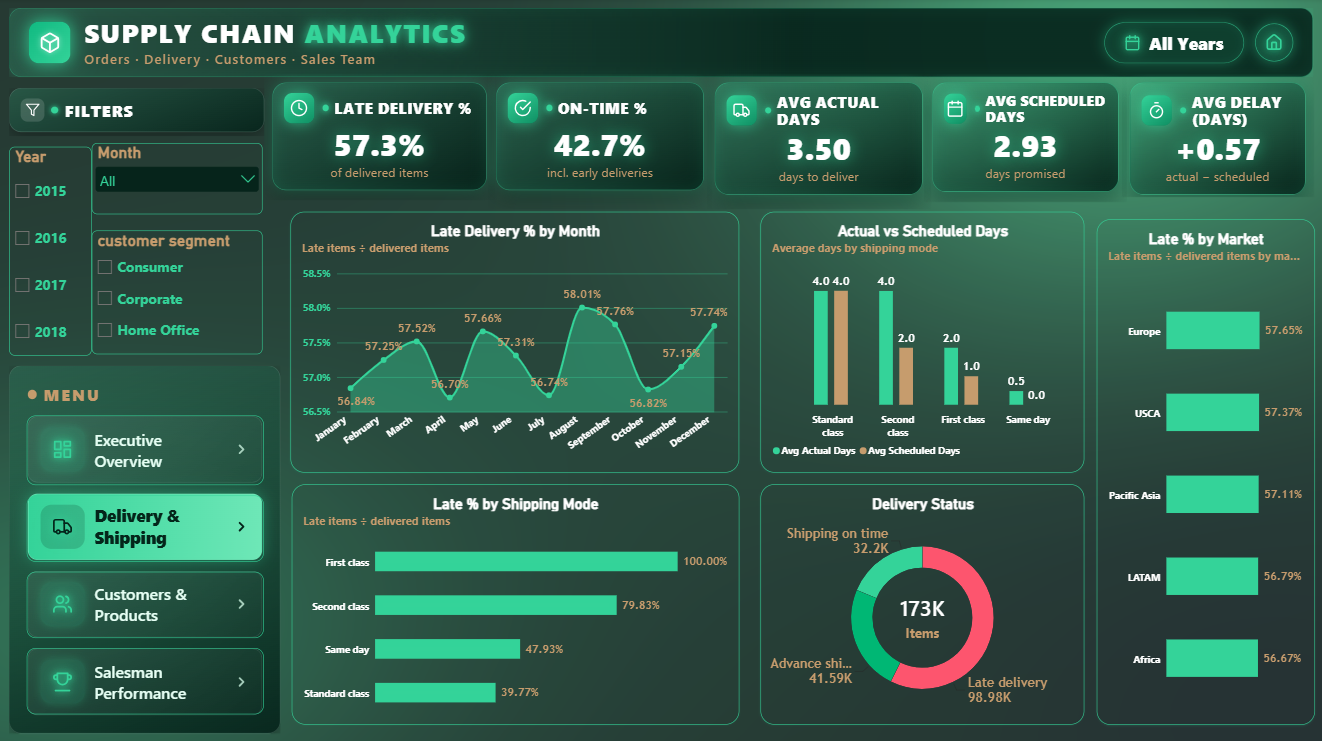

The dashboard page shown, as its layout file describes it:
{"tool":"powerbi","page":{"name":"Delivery & Shipping Performance","canvas":[1920,1080],"ordinal":2},"visuals":[{"type":"htmlContent443BE3AD55E043BF878BED274D3A6855","fields":{"content":["Base HTML.HTML Header"]},"box":[0,0,1920,129.7],"z":0},{"type":"htmlContent443BE3AD55E043BF878BED274D3A6855","fields":{"content":["Base HTML.HTML Menu P2"]},"box":[0,517.6,424.7,562.4],"z":1000},{"type":"htmlContent443BE3AD55E043BF878BED274D3A6855","fields":{"content":["Base HTML.HTML Filter Header"]},"box":[0,115,401.5,99.4],"z":2000},{"type":"htmlContent443BE3AD55E043BF878BED274D3A6855","fields":{"content":["HTML DASHBOARD 2.Card Late Pct"]},"box":[368.4,95,366.5,212.5],"z":3000},{"type":"htmlContent443BE3AD55E043BF878BED274D3A6855","fields":{"content":["HTML DASHBOARD 2.Card On Time Pct"]},"box":[693.6,95,357.2,225.2],"z":4000},{"type":"htmlContent443BE3AD55E043BF878BED274D3A6855","fields":{"content":["HTML DASHBOARD 2.Card Avg Actual"]},"box":[1009.5,95,357.2,225.2],"z":5000},{"type":"htmlContent443BE3AD55E043BF878BED274D3A6855","fields":{"content":["HTML DASHBOARD 2.Card Avg Scheduled"]},"box":[1325.4,95,325.5,214.4],"z":6000},{"type":"htmlContent443BE3AD55E043BF878BED274D3A6855","fields":{"content":["HTML DASHBOARD 2.Card Avg Delay"]},"box":[1609.7,95,310.3,207.5],"z":7000},{"type":"lineChart","title":"Late Delivery % by Month","fields":{"Category":["Gold DimDate.Month_Name"],"Y":["CALC Delivery & Shipping Performance.Late Delivery %"]},"box":[423.4,308.9,649.9,377.6],"z":8000},{"type":"clusteredColumnChart","title":"Actual vs Scheduled Days","fields":{"Category":["Gold FactOrders.Shipping_Mode"],"Y":["CALC Delivery & Shipping Performance.Avg Actual Days","CALC Delivery & Shipping Performance.Avg Scheduled Days"]},"box":[1103,308.9,469.1,377.6],"z":9000},{"type":"clusteredBarChart","title":"Late % by Shipping Mode","fields":{"Category":["Gold FactOrders.Shipping_Mode"],"Y":["CALC Delivery & Shipping Performance.Late Delivery %"]},"box":[425.6,704.8,647.6,347.8],"z":10000},{"type":"clusteredBarChart","title":"Late % by Market","fields":{"Category":["Gold FactOrders.Market"],"Y":["CALC Delivery & Shipping Performance.Late Delivery %"]},"box":[1590.5,320.4,315.8,732.3],"z":11000},{"type":"donutChart","title":"Delivery Status","fields":{"Category":["Gold FactOrders.Delivery_Status"],"Y":["CountNonNull(Gold FactOrders.Order_Item_Id)"]},"box":[1103,704.8,469.1,347.8],"z":12000},{"type":"slicer","fields":{"Values":["Gold DimDate.Year"]},"box":[16,215.1,119,302.1],"z":13000},{"type":"slicer","fields":{"Values":["Gold DimCustomers.customer_segment"]},"box":[136.4,337.2,247.6,179.3],"z":14000},{"type":"slicer","fields":{"Values":["Gold DimDate.Month_Name"]},"box":[136.4,210.5,247.6,103.3],"z":15000},{"type":"actionButton","box":[41.2,604.1,343.3,100.7],"z":16000},{"type":"actionButton","box":[41.2,720.9,343.3,96.1],"z":17000},{"type":"actionButton","box":[41.2,940.5,343.3,96.1],"z":18000},{"type":"actionButton","box":[41.2,830.7,343.3,96.1],"z":19000},{"type":"actionButton","box":[1811.4,27.2,73.7,71.8],"z":19001}]}

Visuals, with their boxes in screenshot pixels (x1, y1, x2, y2), scaled from the page's 1920x1080 canvas onto the 1322x741 screenshot:
htmlContent443BE3AD55E043BF878BED274D3A6855 - Base HTML.HTML Header: pyautogui.locateOnScreen(0, 0, 1321, 89)
htmlContent443BE3AD55E043BF878BED274D3A6855 - Base HTML.HTML Menu P2: pyautogui.locateOnScreen(0, 355, 292, 740)
htmlContent443BE3AD55E043BF878BED274D3A6855 - Base HTML.HTML Filter Header: pyautogui.locateOnScreen(0, 79, 276, 147)
htmlContent443BE3AD55E043BF878BED274D3A6855 - HTML DASHBOARD 2.Card Late Pct: pyautogui.locateOnScreen(254, 65, 506, 211)
htmlContent443BE3AD55E043BF878BED274D3A6855 - HTML DASHBOARD 2.Card On Time Pct: pyautogui.locateOnScreen(478, 65, 724, 220)
htmlContent443BE3AD55E043BF878BED274D3A6855 - HTML DASHBOARD 2.Card Avg Actual: pyautogui.locateOnScreen(695, 65, 941, 220)
htmlContent443BE3AD55E043BF878BED274D3A6855 - HTML DASHBOARD 2.Card Avg Scheduled: pyautogui.locateOnScreen(913, 65, 1137, 212)
htmlContent443BE3AD55E043BF878BED274D3A6855 - HTML DASHBOARD 2.Card Avg Delay: pyautogui.locateOnScreen(1108, 65, 1321, 208)
"Late Delivery % by Month" lineChart: pyautogui.locateOnScreen(292, 212, 739, 471)
"Actual vs Scheduled Days" clusteredColumnChart: pyautogui.locateOnScreen(759, 212, 1082, 471)
"Late % by Shipping Mode" clusteredBarChart: pyautogui.locateOnScreen(293, 484, 739, 722)
"Late % by Market" clusteredBarChart: pyautogui.locateOnScreen(1095, 220, 1313, 722)
"Delivery Status" donutChart: pyautogui.locateOnScreen(759, 484, 1082, 722)
slicer - Gold DimDate.Year: pyautogui.locateOnScreen(11, 148, 93, 355)
slicer - Gold DimCustomers.customer_segment: pyautogui.locateOnScreen(94, 231, 264, 354)
slicer - Gold DimDate.Month_Name: pyautogui.locateOnScreen(94, 144, 264, 215)
actionButton: pyautogui.locateOnScreen(28, 414, 265, 484)
actionButton: pyautogui.locateOnScreen(28, 495, 265, 561)
actionButton: pyautogui.locateOnScreen(28, 645, 265, 711)
actionButton: pyautogui.locateOnScreen(28, 570, 265, 636)
actionButton: pyautogui.locateOnScreen(1247, 19, 1298, 68)
